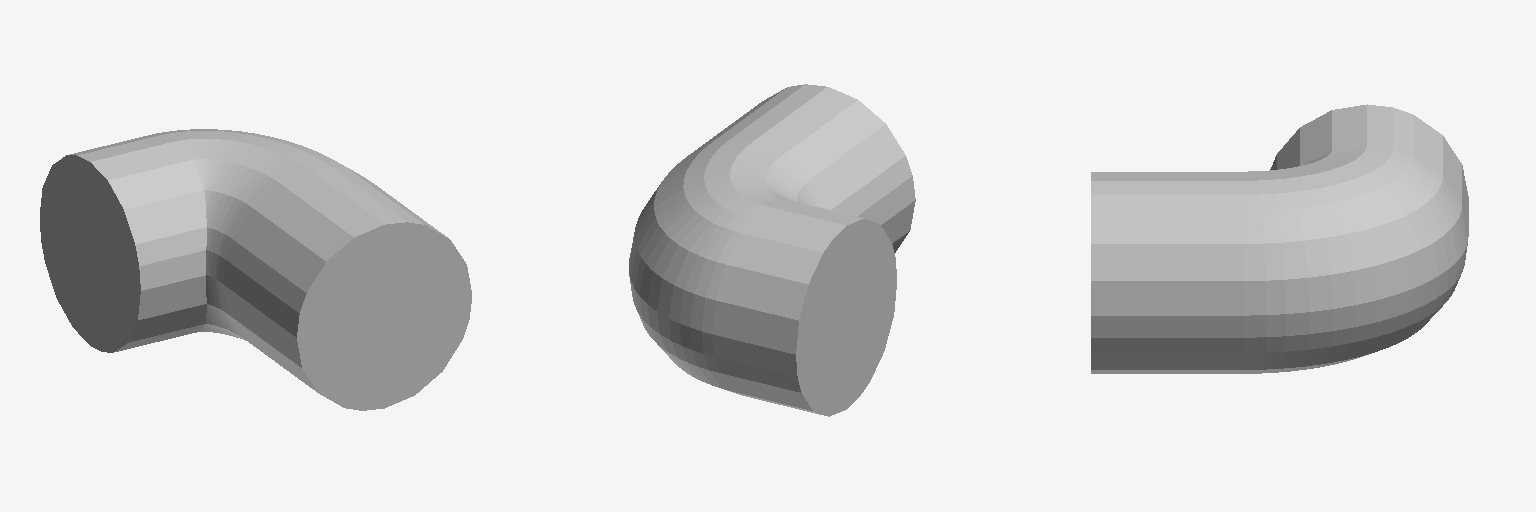
Rendered from elbow.obj.
3 views of the same model, side by side, from view 1: azimuth 30°, elevation 25°; view 2: azimuth 150°, elevation 25°; view 3: azimuth 270°, elevation 25° (orthographic).
Visible parts, largest first — view 1: __.1, ___2, ___1; view 2: __.1, ___1; view 3: __.1.
Boxes of the visible parts, box(x1,y1,x2,y2) form: __.1: box(70, 129, 447, 392); ___2: box(297, 222, 471, 410); ___1: box(40, 155, 140, 352); __.1: box(629, 84, 915, 415); ___1: box(796, 219, 896, 416); __.1: box(1091, 104, 1468, 373).
Bounding box in the file's own units: 109 × 78.61 × 146.